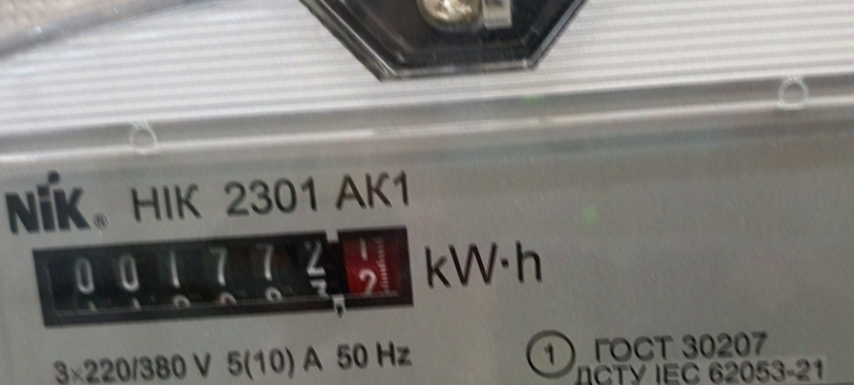0: (66, 253, 95, 294), (114, 251, 138, 291)
1: (162, 248, 180, 287), (354, 236, 368, 262)
2: (300, 239, 324, 277), (352, 266, 376, 295)
3: (306, 277, 328, 299)
7: (205, 244, 229, 286), (251, 242, 274, 281)
screen: (17, 214, 428, 339)
